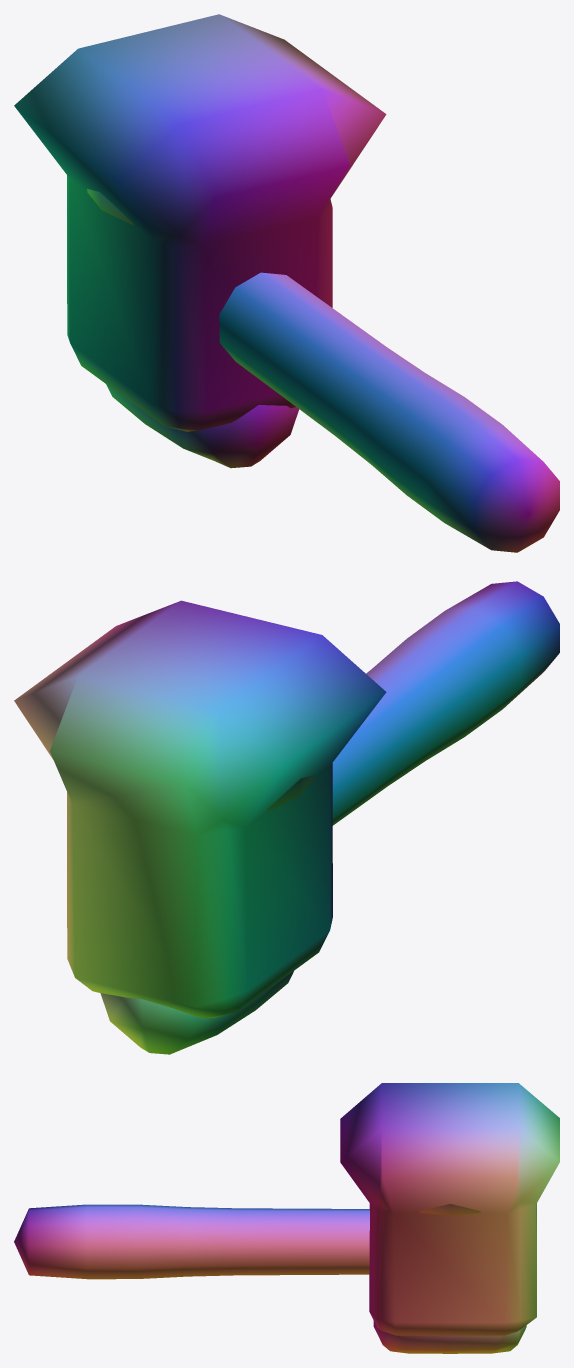
File: SM_NPCKit_Prop_Hammer.fbx
3 views of the same model, one above another, from view 1: azimuth 30°, elevation 25°; view 2: azimuth 150°, elevation 25°; view 3: azimuth 270°, elevation 25° (orthographic). The views are drawn at different scales.
Visible parts, largest first — view 1: SM_NPCKit_Prop_Hammer; view 2: SM_NPCKit_Prop_Hammer; view 3: SM_NPCKit_Prop_Hammer.
Boxes of the visible parts, box(x1,y1,x2,y2) form: SM_NPCKit_Prop_Hammer: box(14, 14, 559, 552); SM_NPCKit_Prop_Hammer: box(14, 581, 559, 1054); SM_NPCKit_Prop_Hammer: box(14, 1083, 559, 1353).
Bounding box in the file's own units: 0.226 × 0.2907 × 0.5948.
